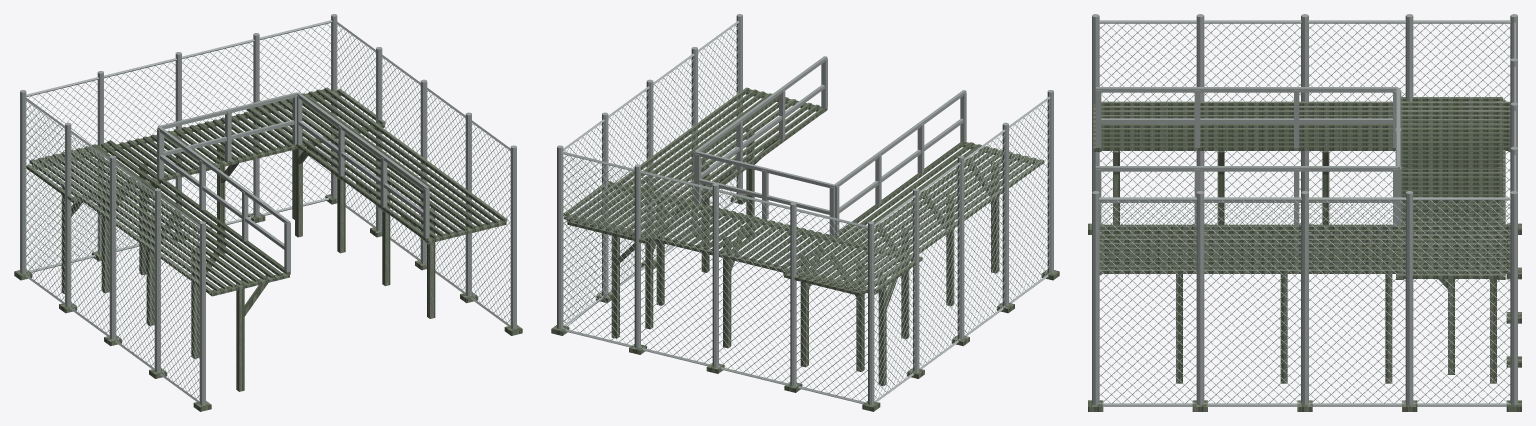
The model's file is cyclone-fence-u.gltf.
3 renders of one model, left to right at view 1: azimuth 30°, elevation 25°; view 2: azimuth 150°, elevation 25°; view 3: azimuth 270°, elevation 25°, orthographic. The views are drawn at different scales.
Parts seen in each view (by area): view 1: fence-L0-wire, walkway-L1-metal, fence-L0-iron, structure-L0-metal, guards-L1-iron, fence-L0-metal; view 2: fence-L0-wire, walkway-L1-metal, fence-L0-iron, structure-L0-metal, guards-L1-iron, fence-L0-metal; view 3: walkway-L1-metal, fence-L0-wire, fence-L0-iron, guards-L1-iron, structure-L0-metal, fence-L0-metal.
Part boxes in pixels (x1,y1,x2,y2): fence-L0-wire: (24, 24, 510, 399); walkway-L1-metal: (26, 87, 507, 296); fence-L0-iron: (20, 14, 516, 405); structure-L0-metal: (61, 113, 435, 391); guards-L1-iron: (157, 92, 429, 272); fence-L0-metal: (14, 194, 522, 411); fence-L0-wire: (562, 25, 1049, 402); walkway-L1-metal: (563, 87, 1044, 296); fence-L0-iron: (557, 14, 1053, 405); structure-L0-metal: (611, 128, 999, 385); guards-L1-iron: (694, 56, 966, 236); fence-L0-metal: (551, 194, 1059, 411); walkway-L1-metal: (1093, 97, 1510, 279); fence-L0-wire: (1099, 23, 1510, 403); fence-L0-iron: (1092, 14, 1517, 406); guards-L1-iron: (1095, 87, 1401, 226); structure-L0-metal: (1113, 151, 1496, 383); fence-L0-metal: (1088, 223, 1521, 411).
Size of the model in its own units: 6.22 by 3.42 by 6.22.
3 materials, 1 textured.
